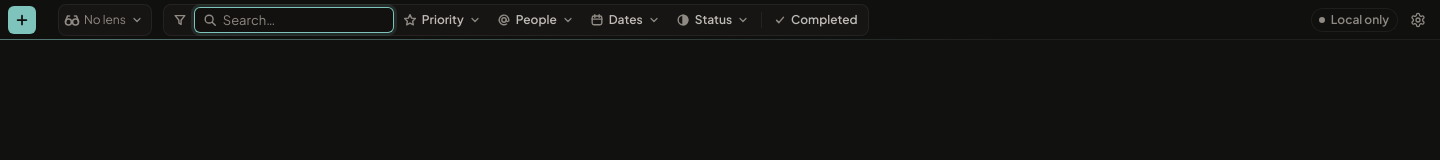
TopBar search-result pill bar › renders people, status, and date pills on a search-result row
Type "Q4" into the field with placeholder "Search…". click: [294, 20]
box: [194,6,394,32]
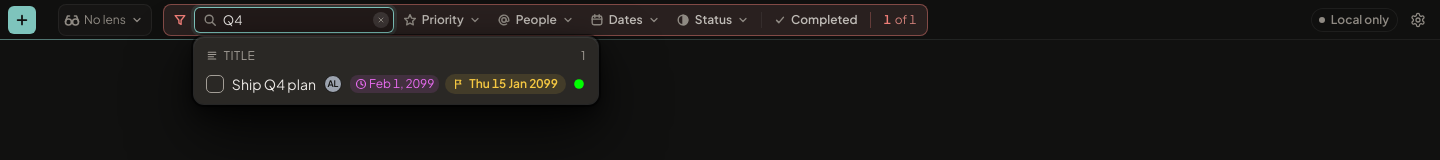
Check: the text "AL" is shown, box [324,74,342,92]
Check: the element titled "In Progress" is shown, box [572,76,586,90]
Check: the text "Thu 15 Jan 2099" is shown, box [445,74,566,94]
